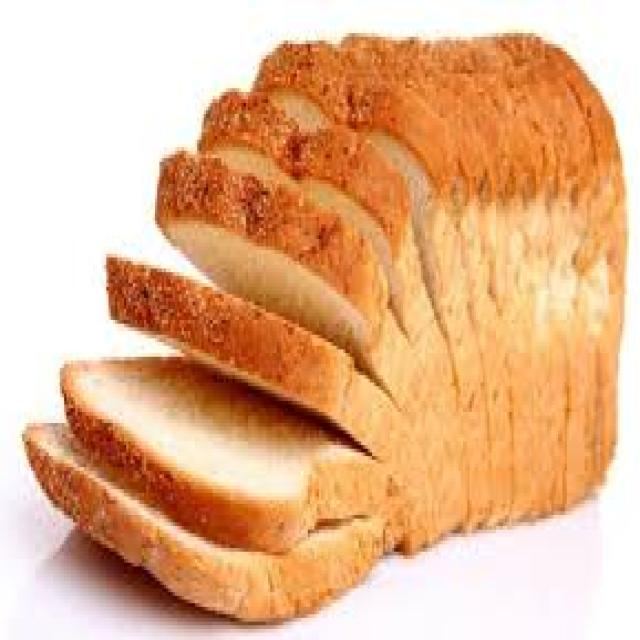food_waste: (22, 33, 624, 618)
